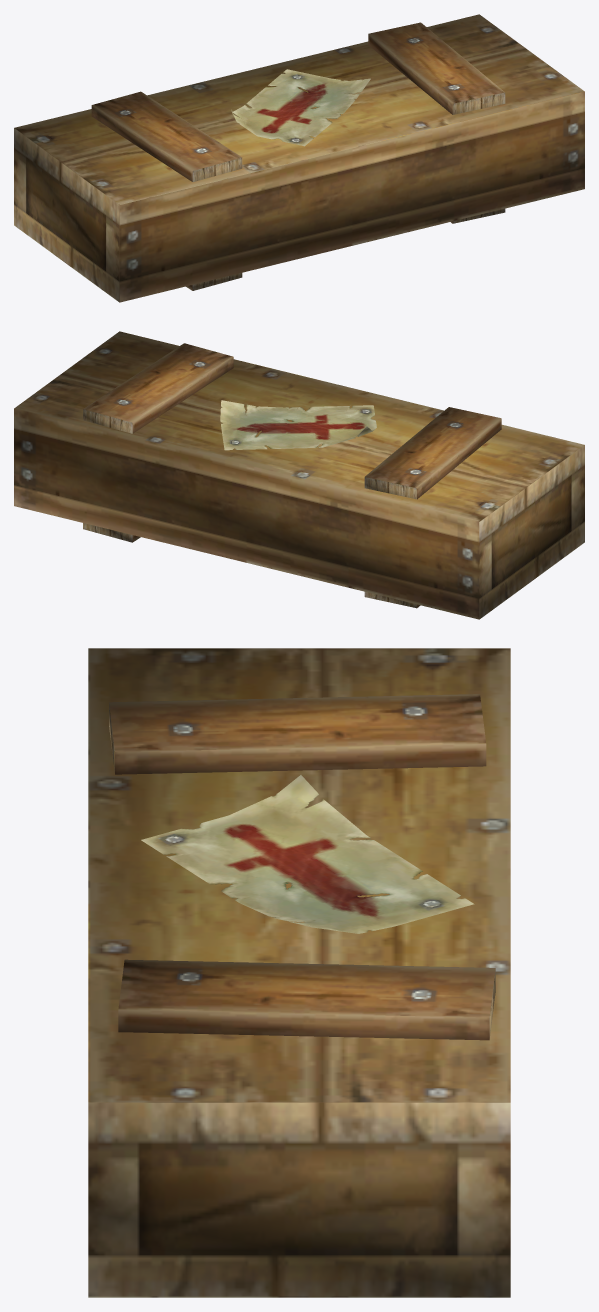
File: weaponcratealliancesword.glb
3 renders of one model, top to bottom at view 1: azimuth 30°, elevation 25°; view 2: azimuth 150°, elevation 25°; view 3: azimuth 270°, elevation 25°, orthographic. The views are drawn at different scales.
Bounding box in the file's own units: 2.28 × 0.5906 × 0.8954.
1 material, 1 textured.
